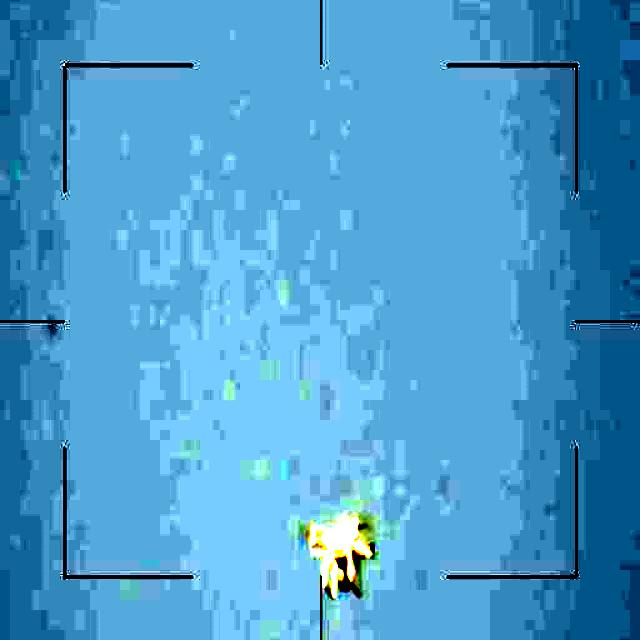bird: (301, 501, 379, 599)
